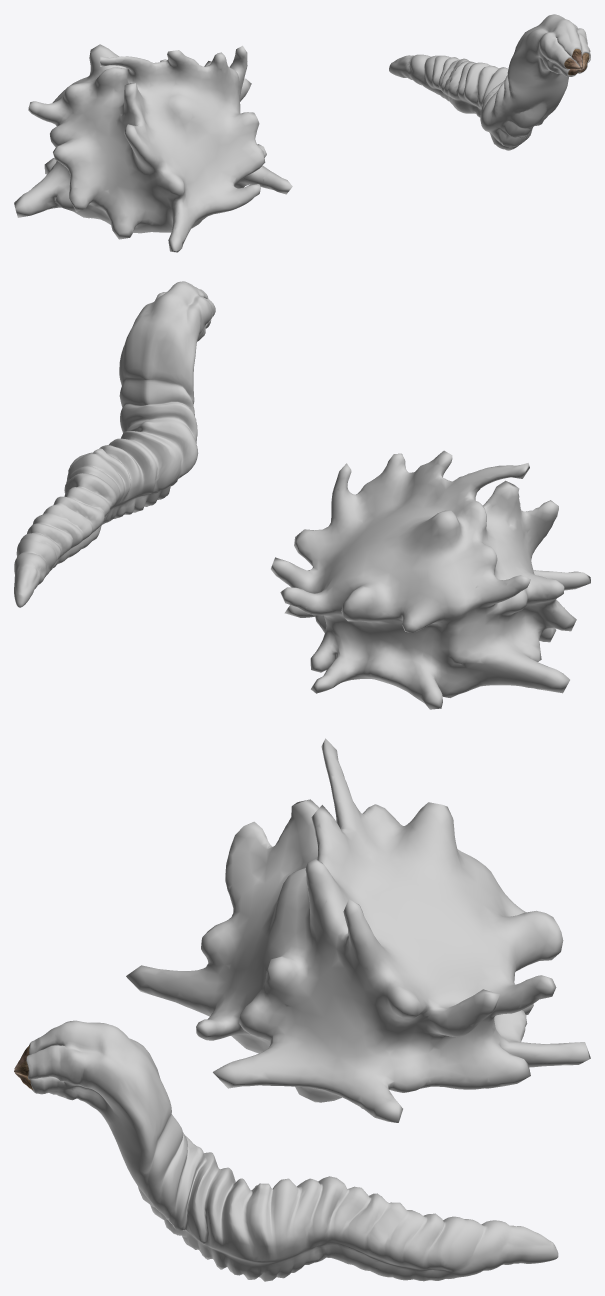
The model's file is alieno3.obj.
3 renders of one model, top to bottom at view 1: azimuth 30°, elevation 25°; view 2: azimuth 150°, elevation 25°; view 3: azimuth 270°, elevation 25°, orthographic. The views are drawn at different scales.
Parts seen in each view (by area): view 1: AlienGrub1, alieno3; view 2: AlienGrub1, alieno3; view 3: AlienGrub1, alieno3.
Boxes of the visible parts, x1=… form: AlienGrub1: x1=14, y1=44, x2=292, y2=252; alieno3: x1=389, y1=14, x2=590, y2=150; AlienGrub1: x1=271, y1=450, x2=590, y2=709; alieno3: x1=14, y1=281, x2=215, y2=607; AlienGrub1: x1=126, y1=738, x2=590, y2=1122; alieno3: x1=14, y1=1020, x2=558, y2=1281.
Bounding box in the file's own units: 12.32 × 4.46 × 8.38.
